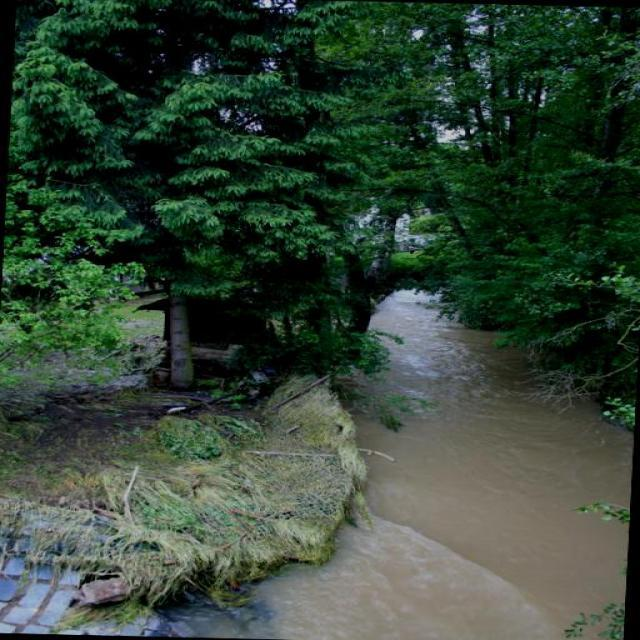flood: (306, 279, 639, 639)
